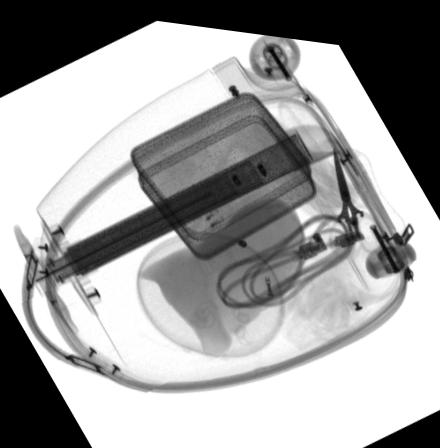Scissors: (328, 137, 387, 251)
